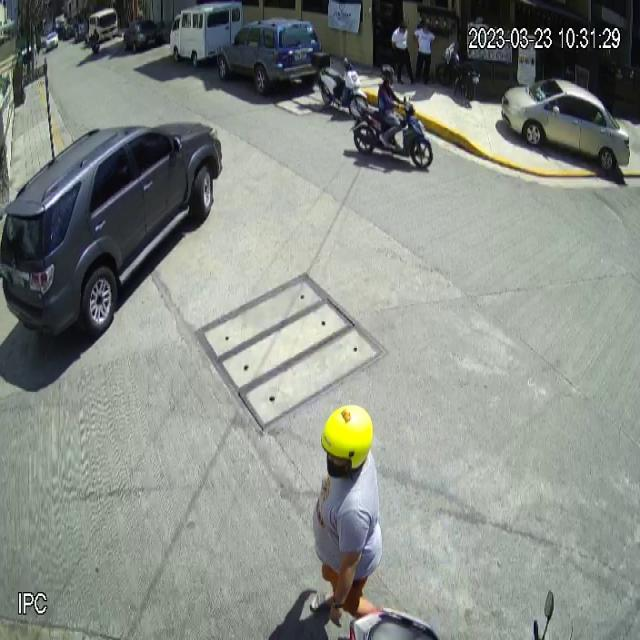Car: (0, 119, 223, 338), (501, 77, 632, 176), (215, 14, 322, 97)
Motorcycle: (350, 96, 434, 172), (311, 51, 369, 120)
Van: (169, 0, 243, 68)
